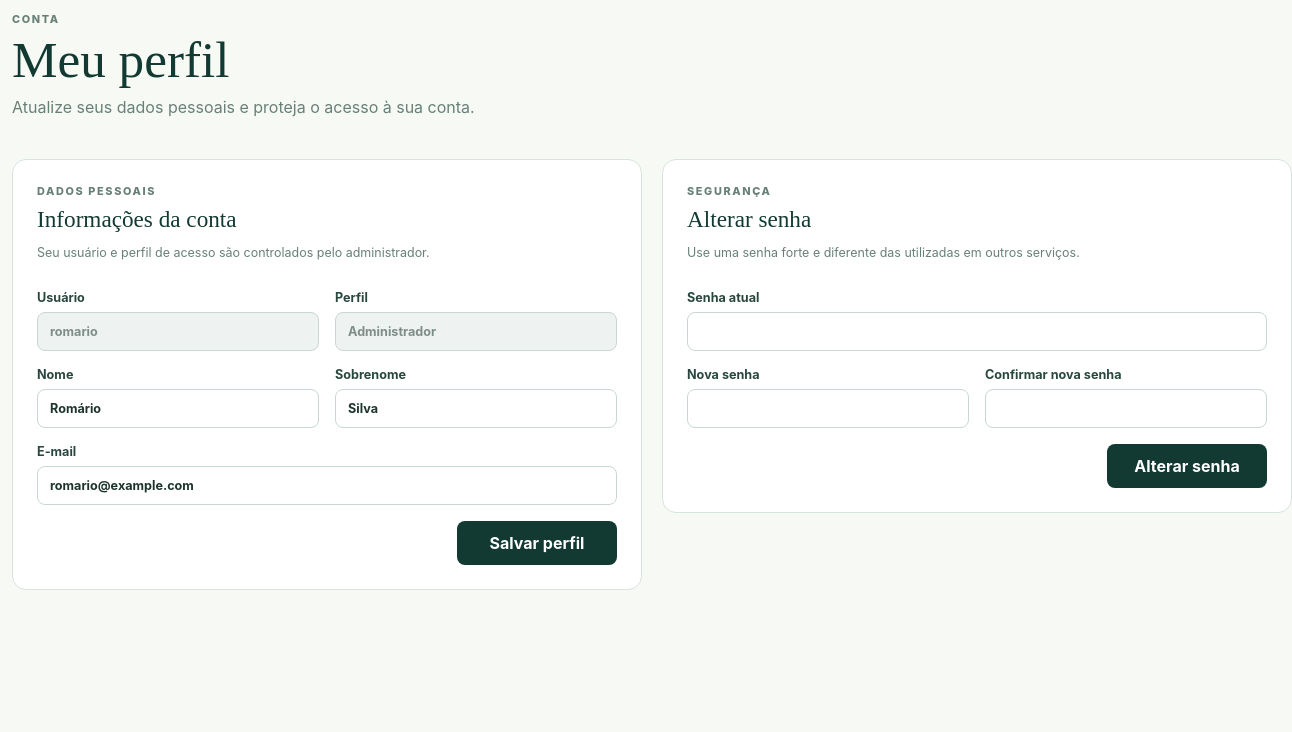
ProfilePage › atualiza os dados pessoais e recarrega o usuario
Replace the text in the field labelled "E-mail" with "novo@example.com" at x=327, y=486, box [37,466,617,505]
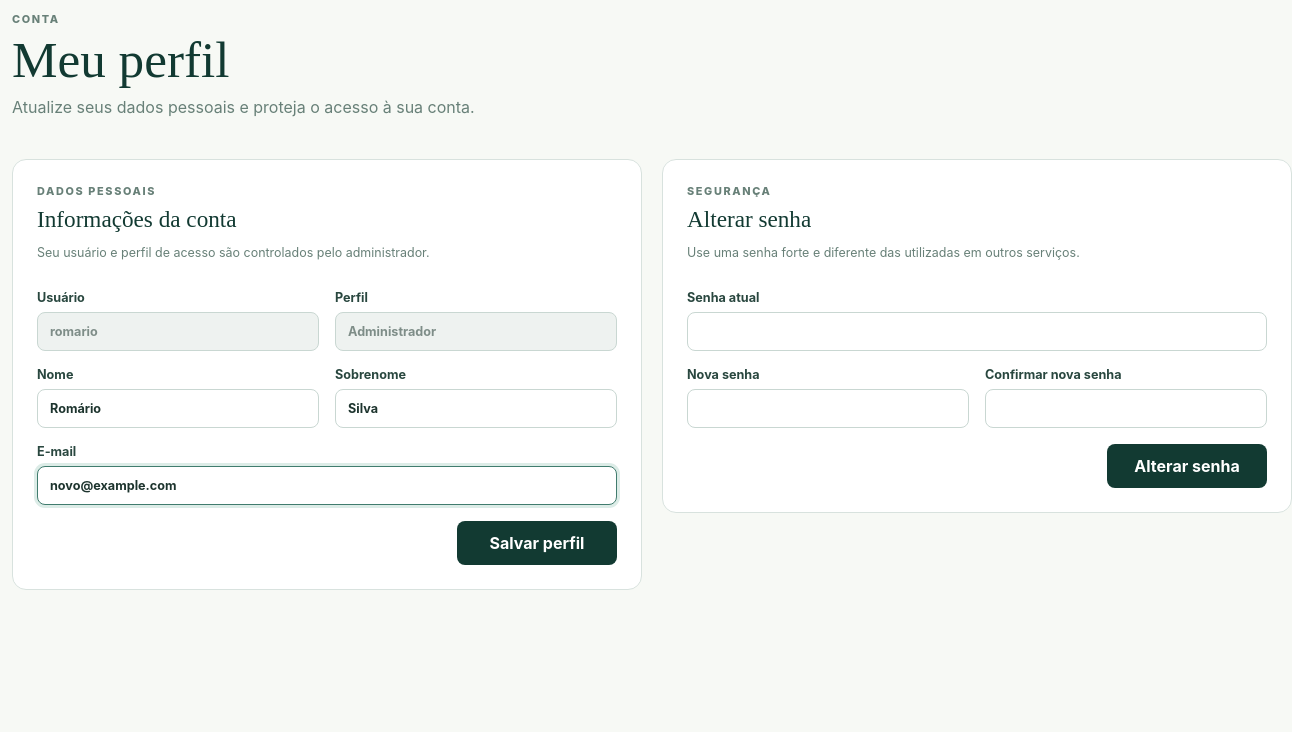
Click the button "Salvar perfil" at x=537, y=543, box [457,521,617,565]
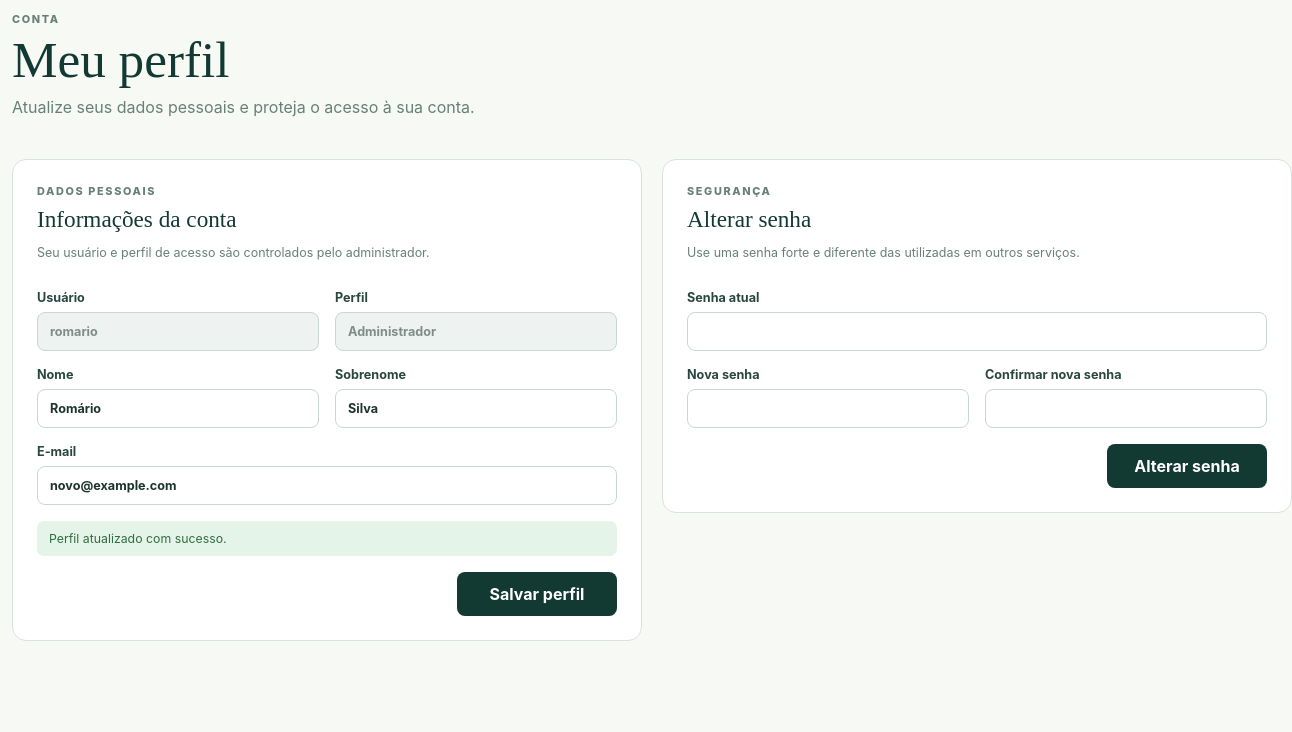
Check: the text "Perfil atualizado com sucesso." is shown, box [37,521,617,556]
